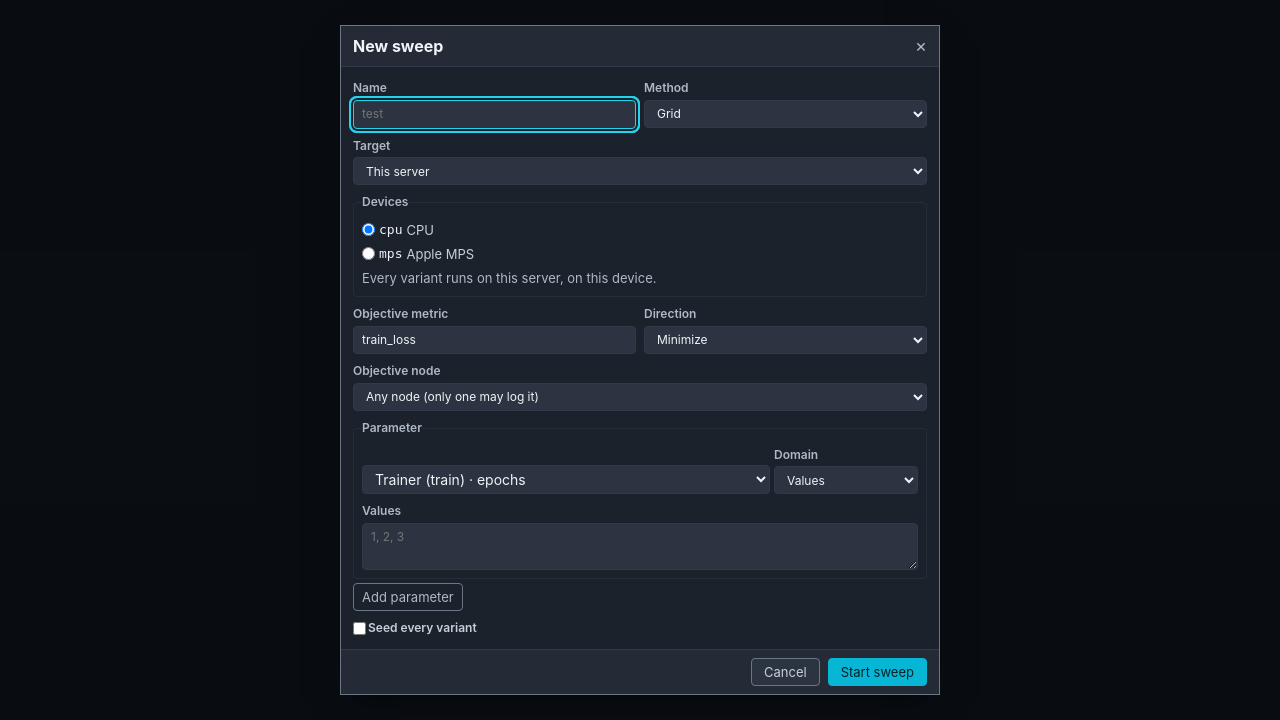
NewSweepDialog: target (#777) › offers the Queue on... targets, with sweep wording under the devices
Step 1. Type "2, 4" into the text box labelled "Values" → (640, 546), box 362,523 -> 918,570
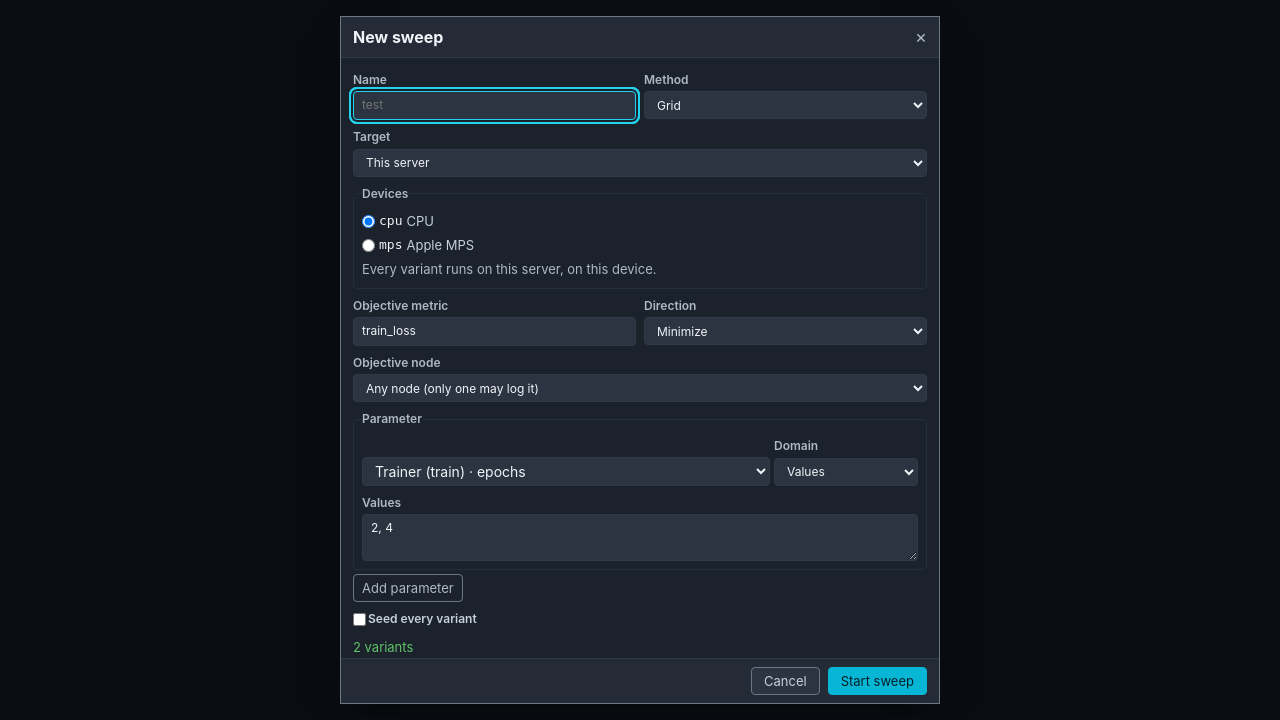
Check: the text "Every variant runs on this server, on this device." is shown, box 362,262 -> 656,278
Step 2. Select "Any available" in the dropdown labelled "Target" → (640, 163), box 353,149 -> 927,177
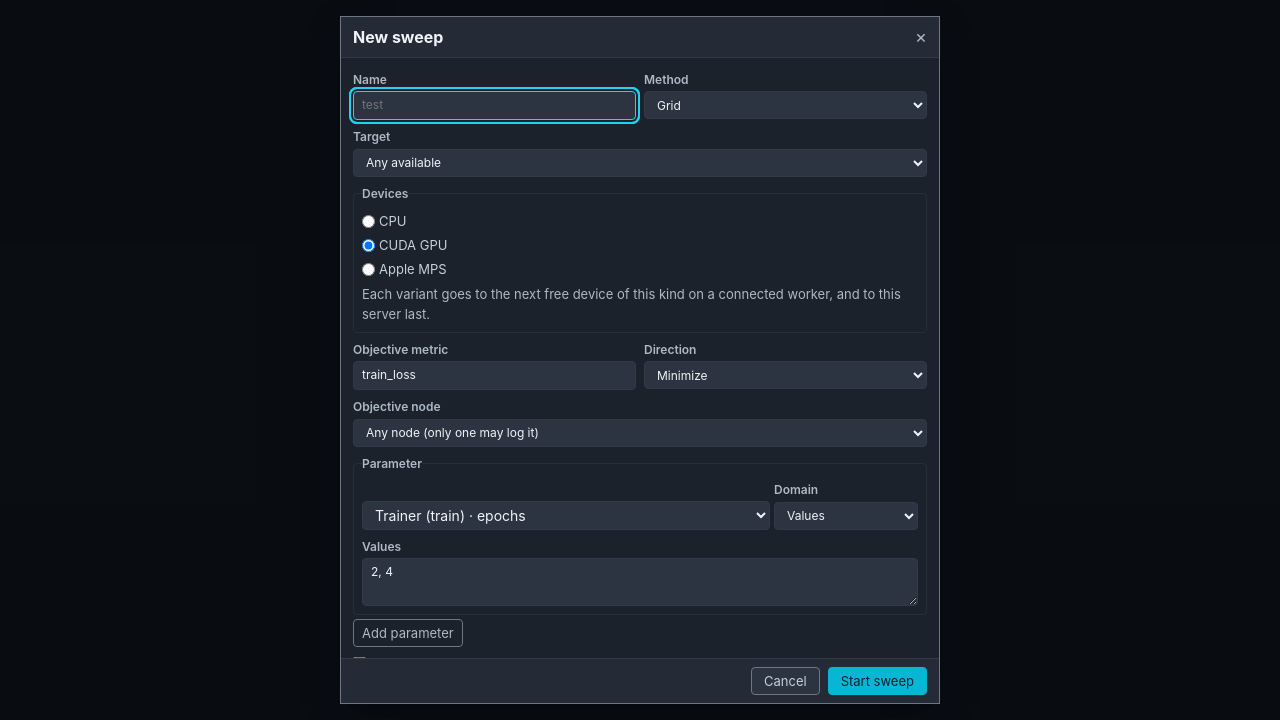
Check: the text "Each variant goes to the next free device of this kind" is shown, box 362,286 -> 901,322
